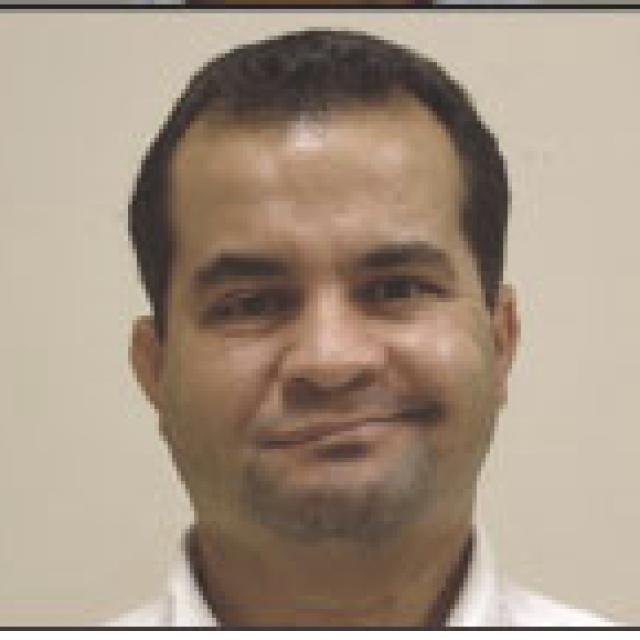stroke_face: (141, 66, 519, 551)
